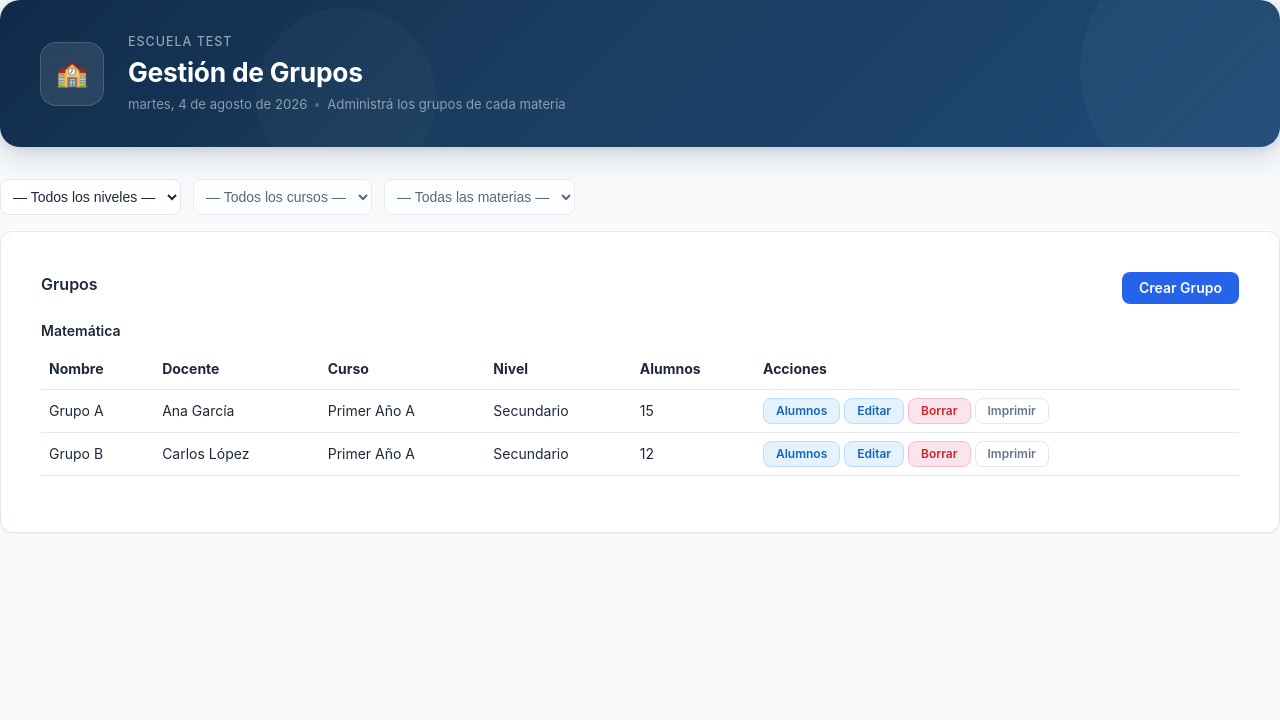
Test: GG — Gestión de Grupos › GG-T6: click Editar en un grupo abre el form con datos del grupo
Check: the text "Grupo A" is shown, box [41,389,154,432]
Click the button with test id "btn-editar-g-1" at (874, 411), box [844,398,904,424]
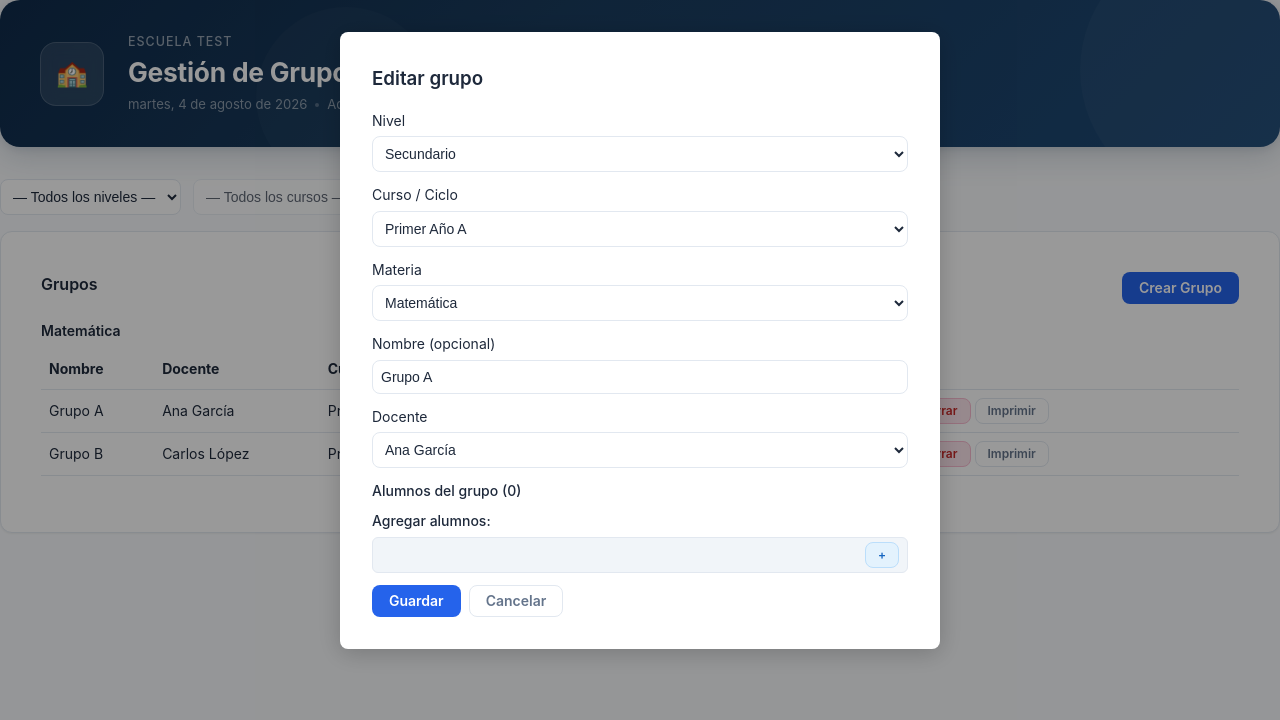
Check: the element with test id "form-grupo" is shown
Check: the field with test id "form-nombre" holds "Grupo A", box [372,360,908,394]
